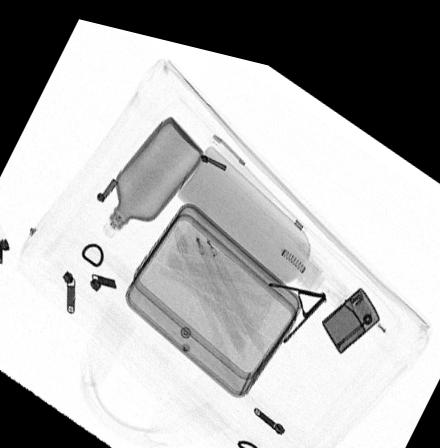Lighter: (322, 269, 380, 338)
